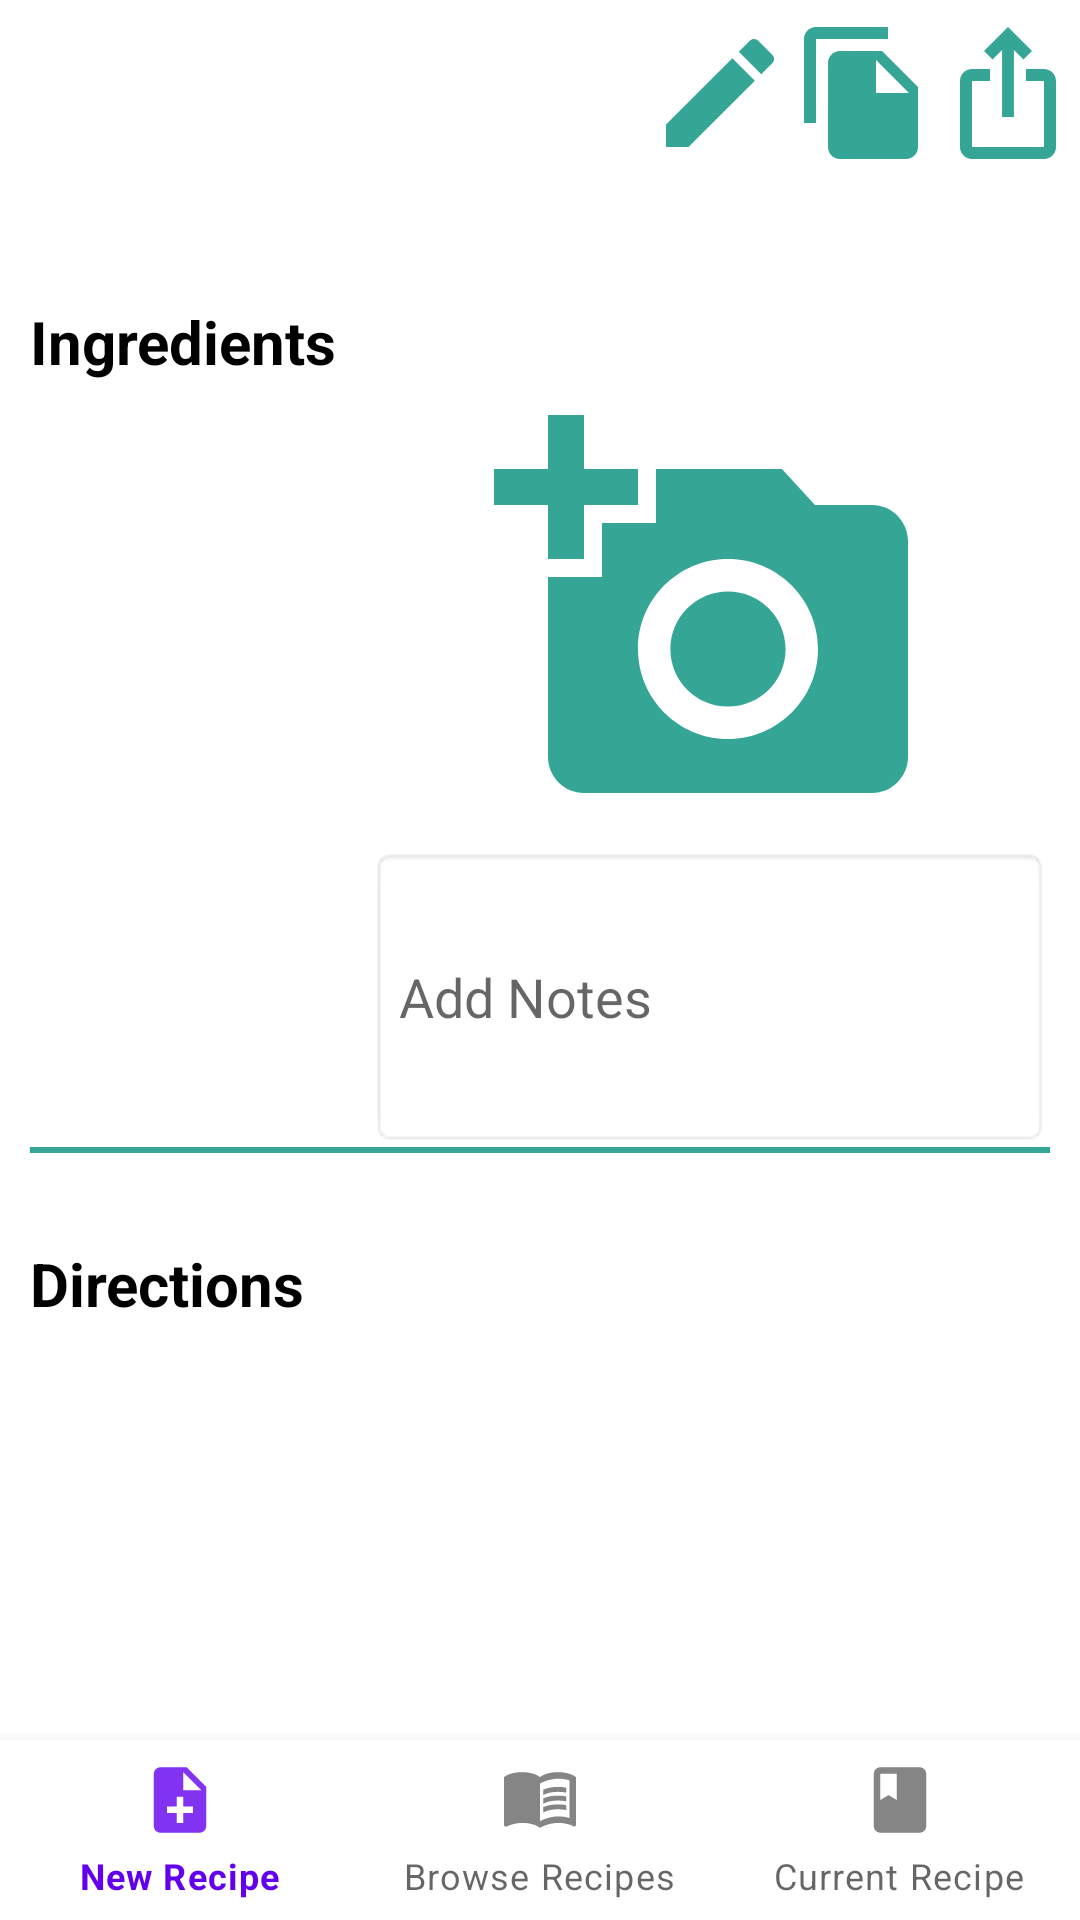

Icons on this 1080w x 1920h Android screen, each with its box as box=[x1, y1, x2, y2]:
share: box=[960, 27, 1056, 159]
